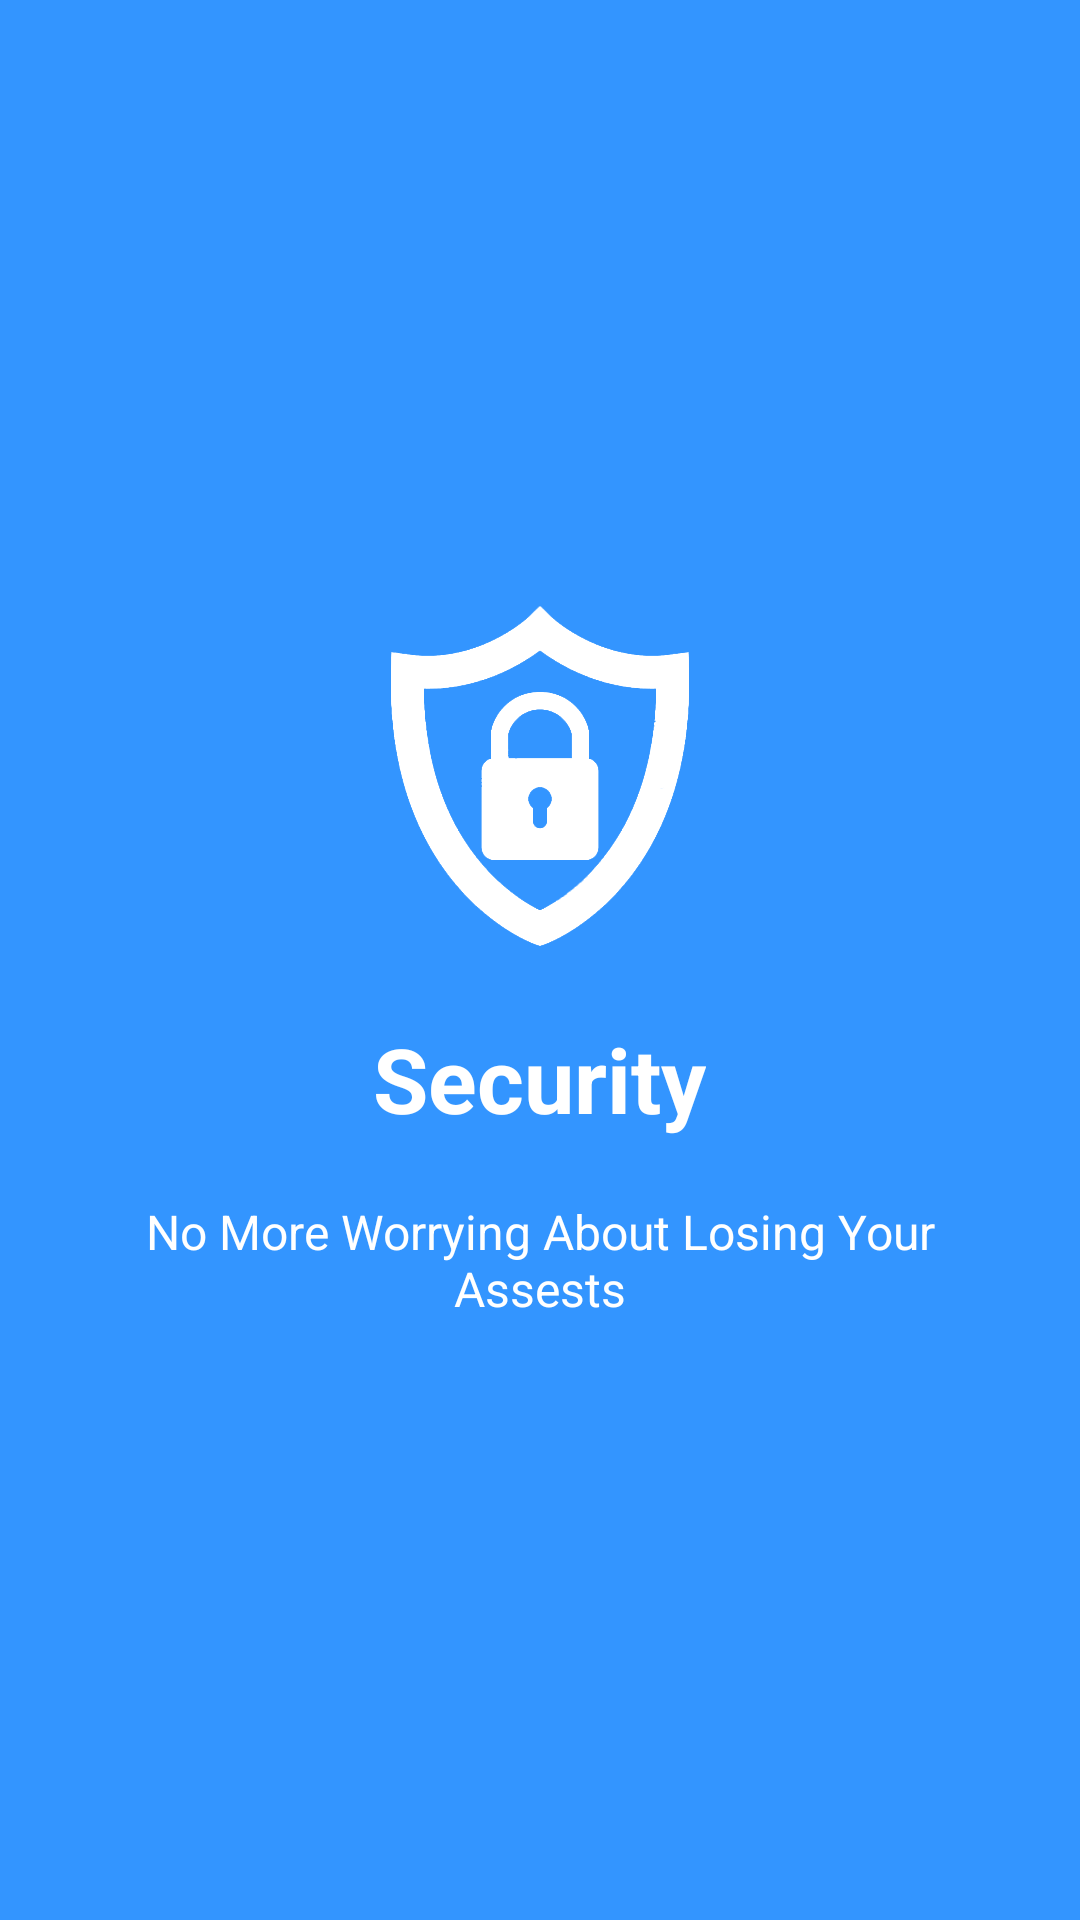

Locate icon controls on the screen. Image size 1080 x 1920, boxes as (x1, y1, x2, y2).
lock: (391, 606, 689, 946)
